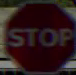Stop: (2, 11, 73, 65)
